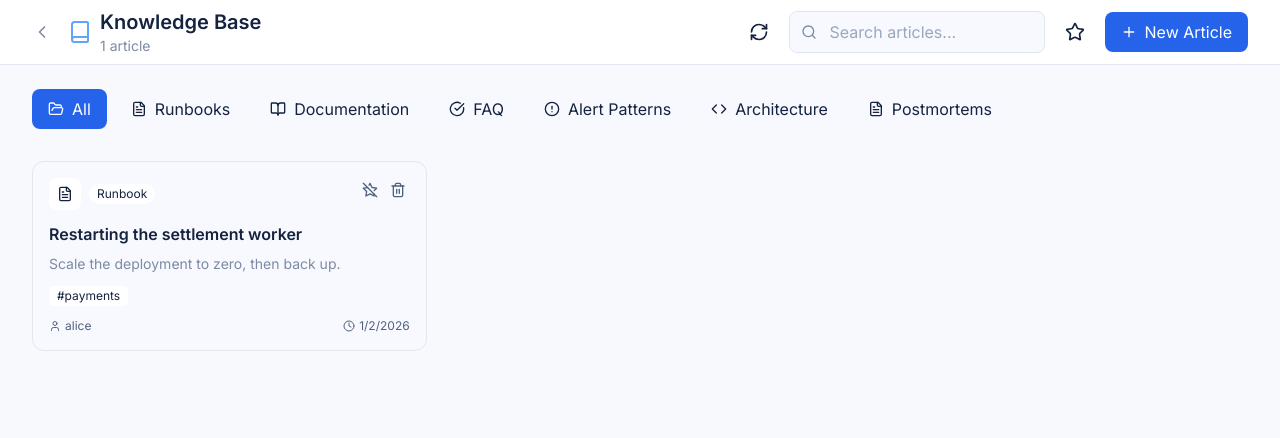
Test case: KnowledgeBase › reports a failed delete instead of leaving the row and saying nothing
Check: the heading "Restarting the settlement worker" is shown, box [49, 224, 302, 244]
Click the button named "Delete Restarting the settlement worker" at (398,190), box [386, 178, 410, 202]
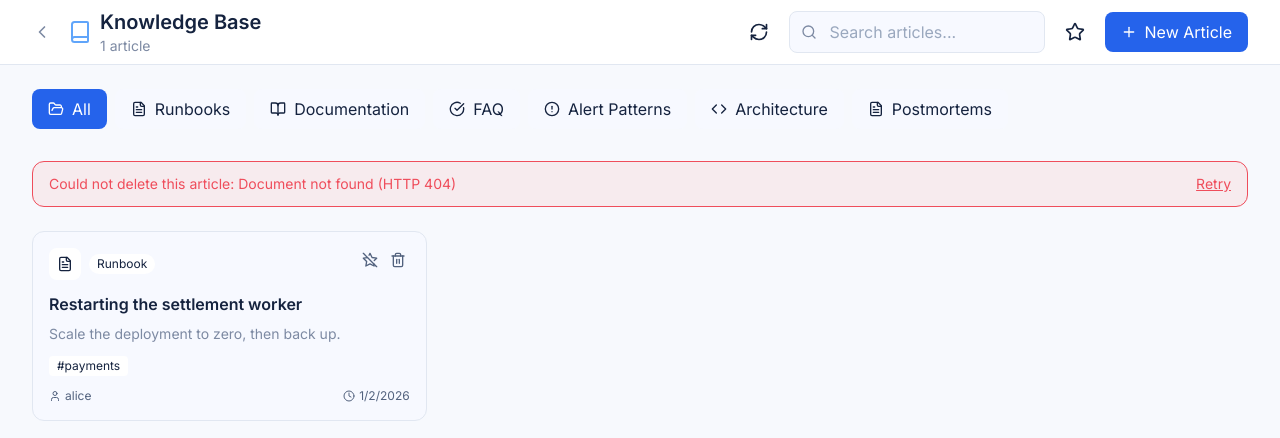
Check: the heading "Restarting the settlement worker" is shown, box [49, 294, 302, 314]
Check: the message shows "Document not found", box [49, 175, 456, 192]
